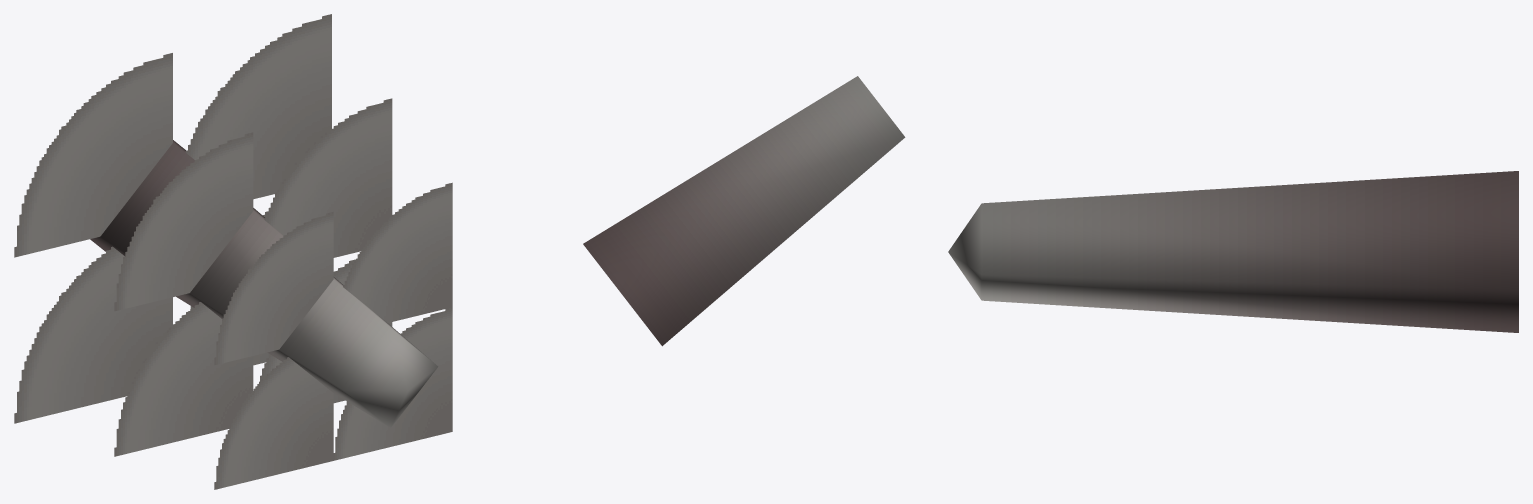
Rendered from transformer.glb.
The picture shows the model from 3 angles, left to right: view 1: azimuth 30°, elevation 25°; view 2: azimuth 150°, elevation 25°; view 3: azimuth 270°, elevation 25°; orthographic projection. The views are drawn at different scales.
Visible parts, largest first — view 1: shock_trenches.transformer-Mesh[0], shock_trenches.transformer-Mesh[1]; view 2: shock_trenches.transformer-Mesh[1]; view 3: shock_trenches.transformer-Mesh[1].
Boxes of the visible parts, x1,y1,x2,y2 form: shock_trenches.transformer-Mesh[0]: (14, 14, 452, 489); shock_trenches.transformer-Mesh[1]: (90, 140, 438, 427); shock_trenches.transformer-Mesh[1]: (583, 76, 905, 346); shock_trenches.transformer-Mesh[1]: (948, 171, 1518, 332).
Bounding box in the file's own units: 0.32 × 0.32 × 0.51.
Materials: 2 (2 with a texture image).
